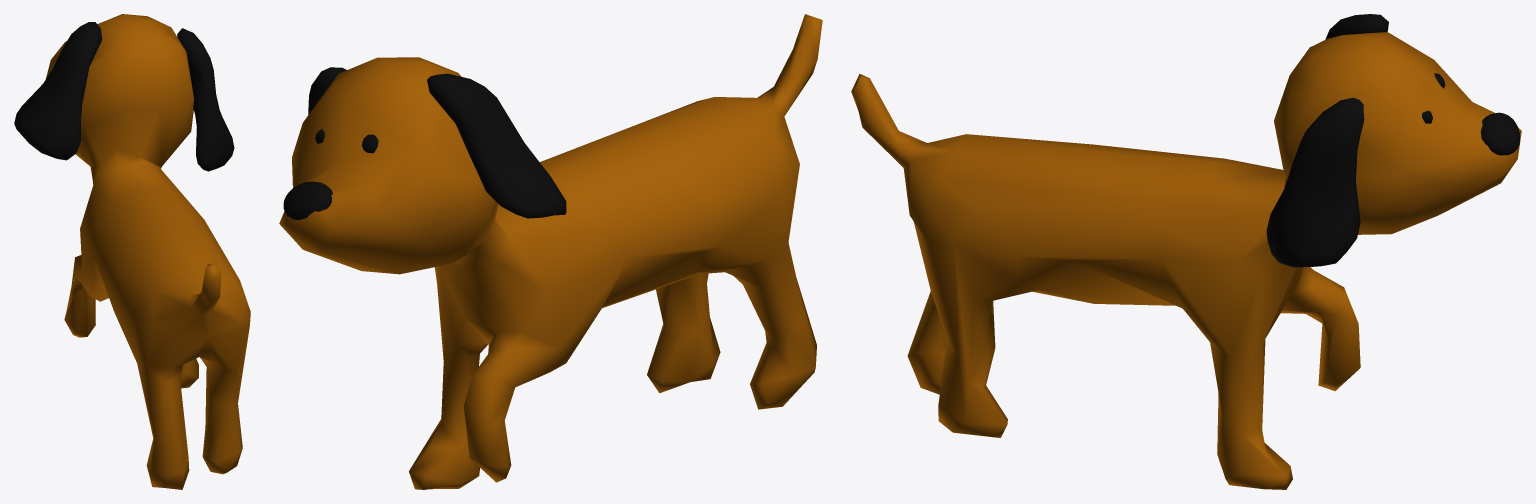
Rendered from perrito.fbx.
3 renders of one model, left to right at view 1: azimuth 30°, elevation 25°; view 2: azimuth 150°, elevation 25°; view 3: azimuth 270°, elevation 25°, orthographic. The views are drawn at different scales.
Parts seen in each view (by area): view 1: Perrito, Perrito.003; view 2: Perrito, Perrito.003; view 3: Perrito, Perrito.003.
Part boxes in pixels (left/top/right/bottom): Perrito: left=45, top=14, right=250, bottom=489; Perrito.003: left=14, top=22, right=234, bottom=171; Perrito: left=279, top=14, right=822, bottom=489; Perrito.003: left=283, top=67, right=566, bottom=219; Perrito: left=851, top=32, right=1521, bottom=489; Perrito.003: left=1266, top=14, right=1519, bottom=267.
Size of the model in its own units: 265 by 378 by 518.
